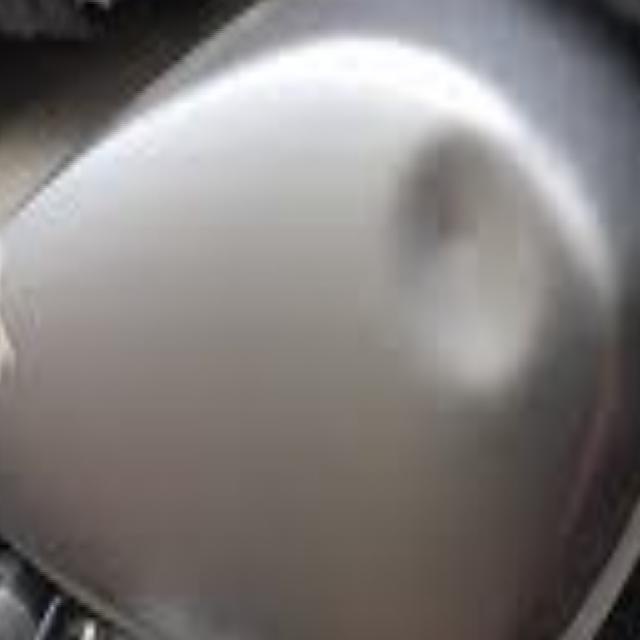dents: (378, 111, 559, 391)
